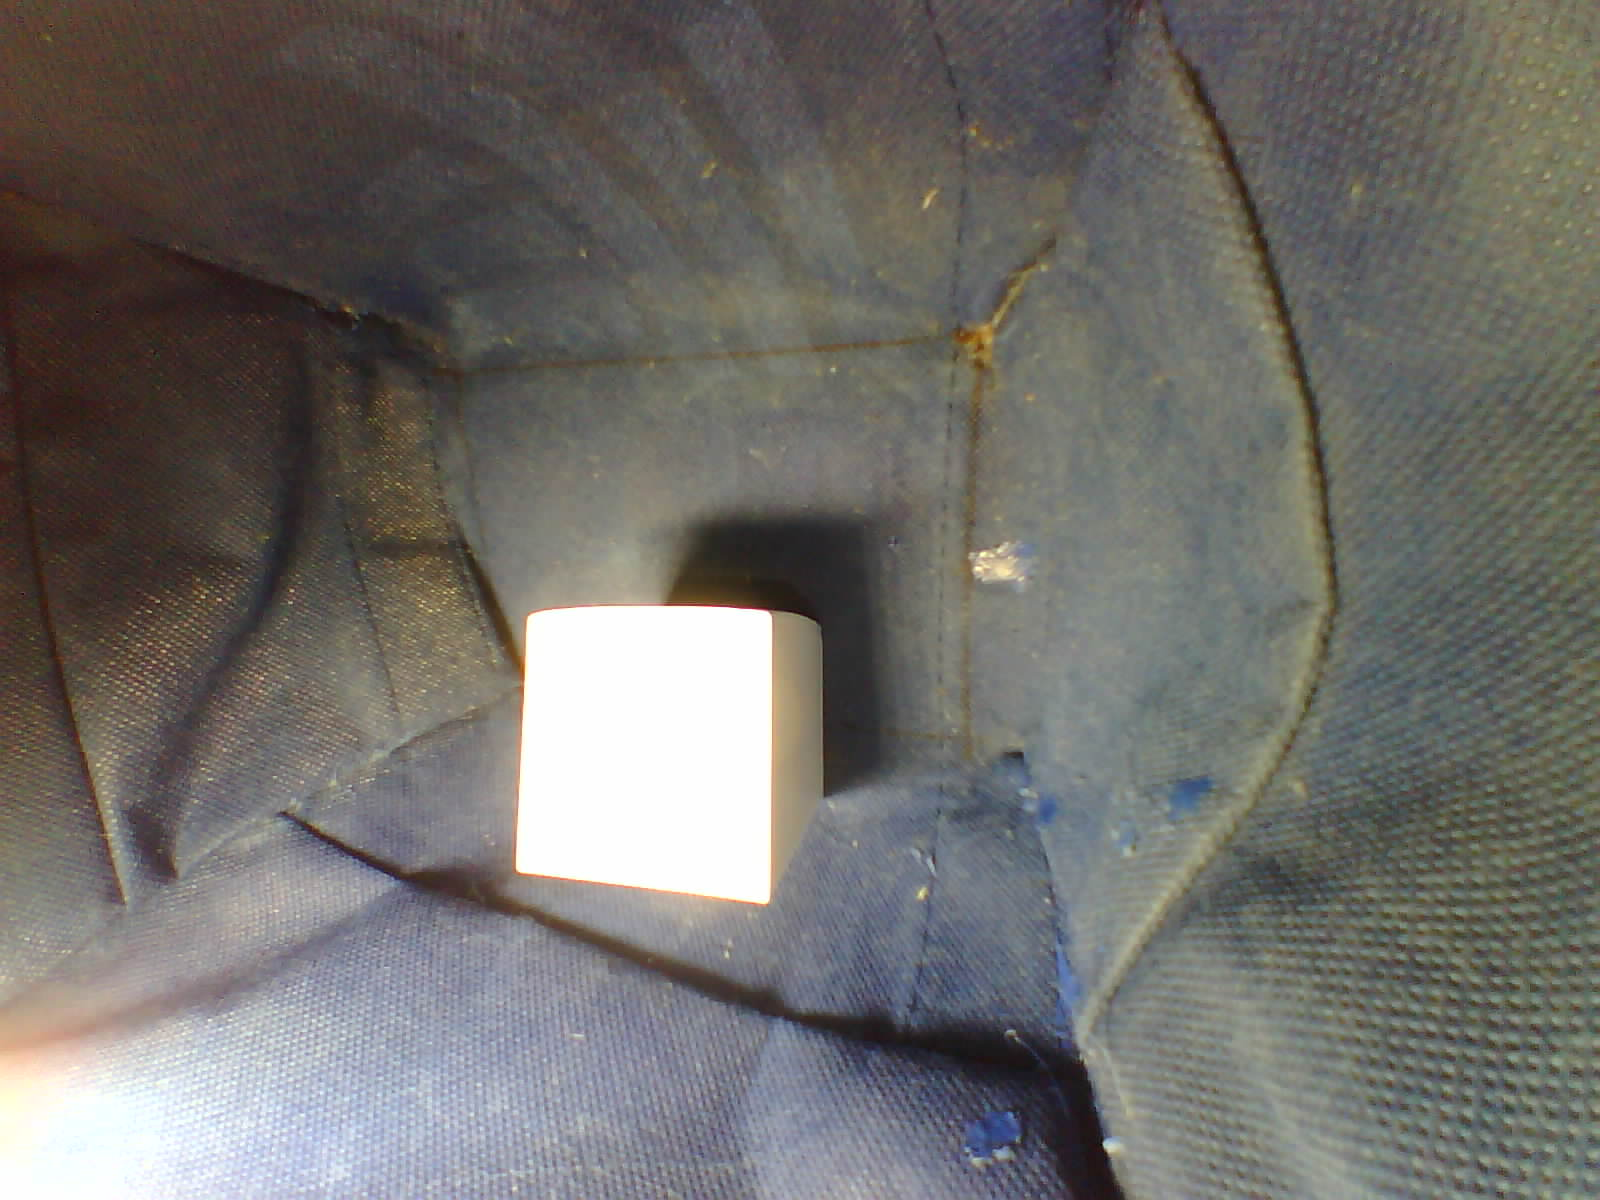cube-hard: (491, 585, 837, 909)
